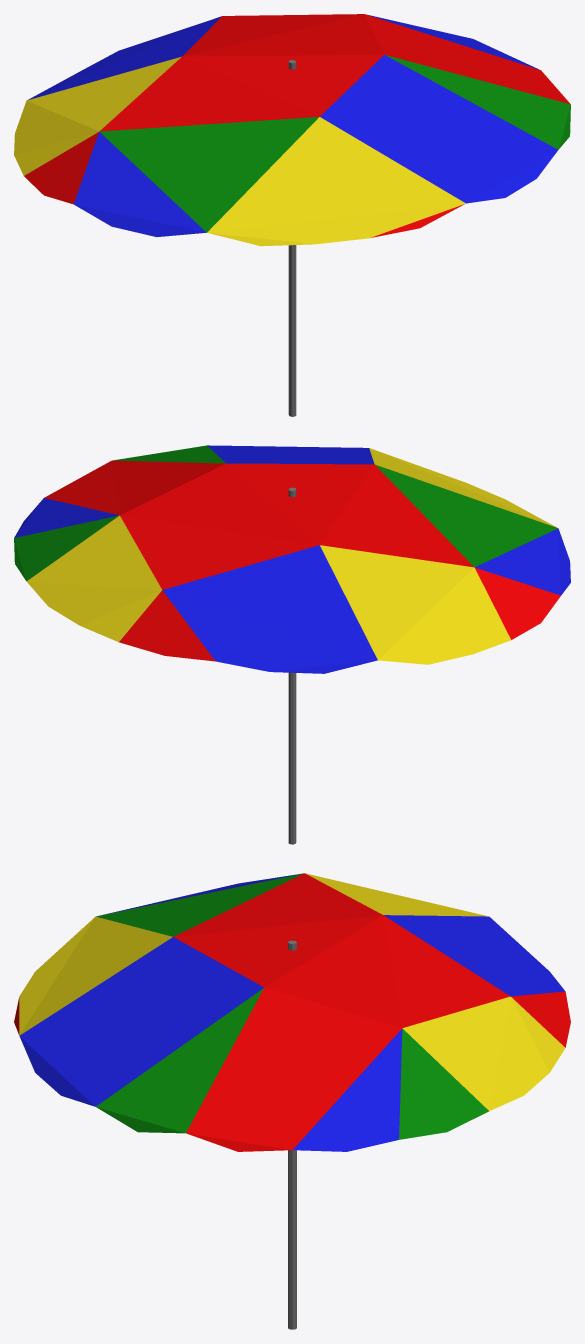
Rendered from Beach Umbrella.glb.
3 views of the same model, one above another, from view 1: azimuth 30°, elevation 25°; view 2: azimuth 150°, elevation 25°; view 3: azimuth 270°, elevation 25° (orthographic). The views are drawn at different scales.
Parts seen in each view (by area): view 1: Beach Umbrella; view 2: Beach Umbrella; view 3: Beach Umbrella.
Boxes of the visible parts, box(x1,y1,x2,y2) form: Beach Umbrella: box(14, 14, 570, 416); Beach Umbrella: box(14, 445, 570, 844); Beach Umbrella: box(14, 873, 570, 1329).
Size of what is drawn, in the model's own units: 2.94 by 2 by 2.62.
